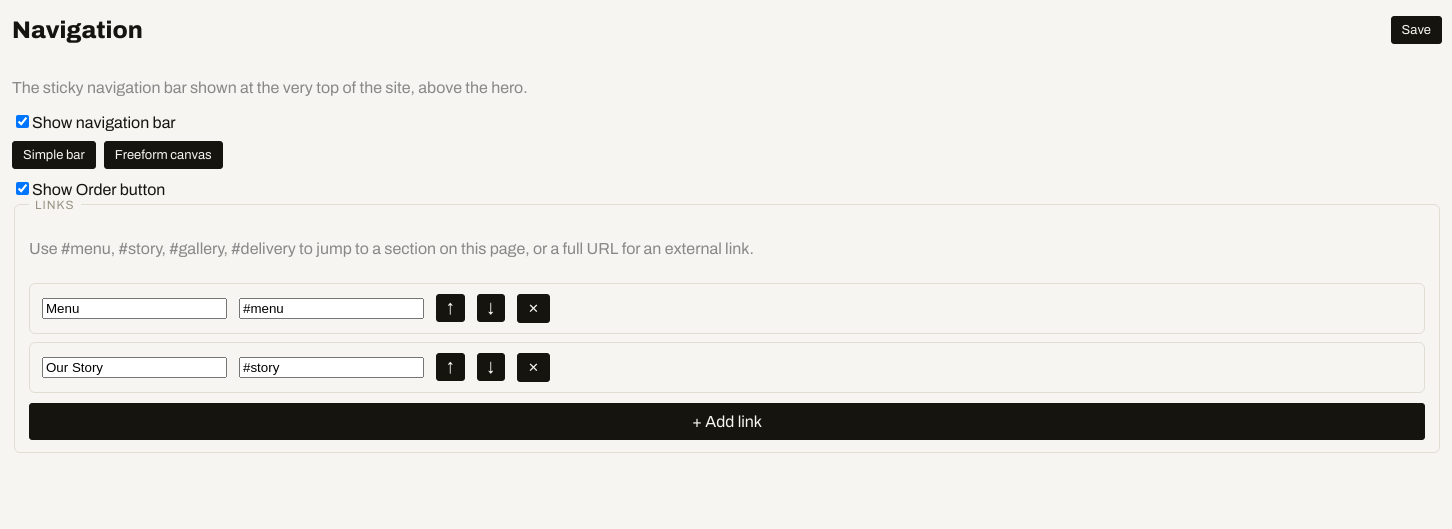
Test: NavbarEditor › adding a link grows the list
Click the button "+ Add link". click: [727, 421]
box: x1=29 y1=403 x2=1425 y2=440
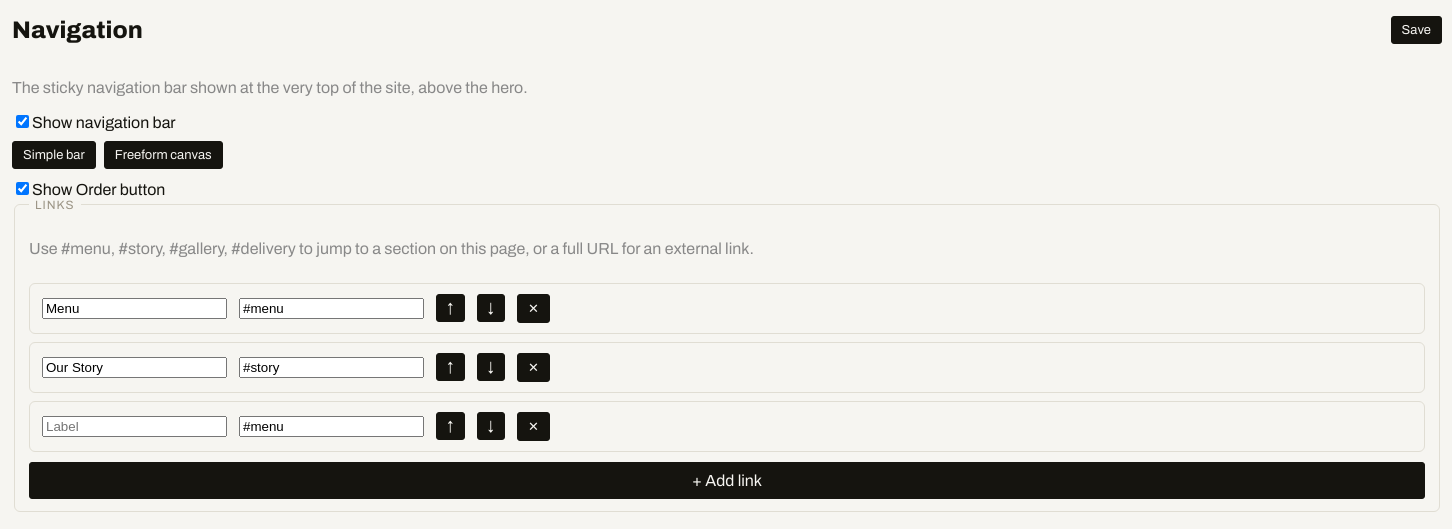
expect the number of list items is 3: met, box x1=29 y1=283 x2=1425 y2=334; x1=29 y1=342 x2=1425 y2=393; x1=29 y1=401 x2=1425 y2=452
